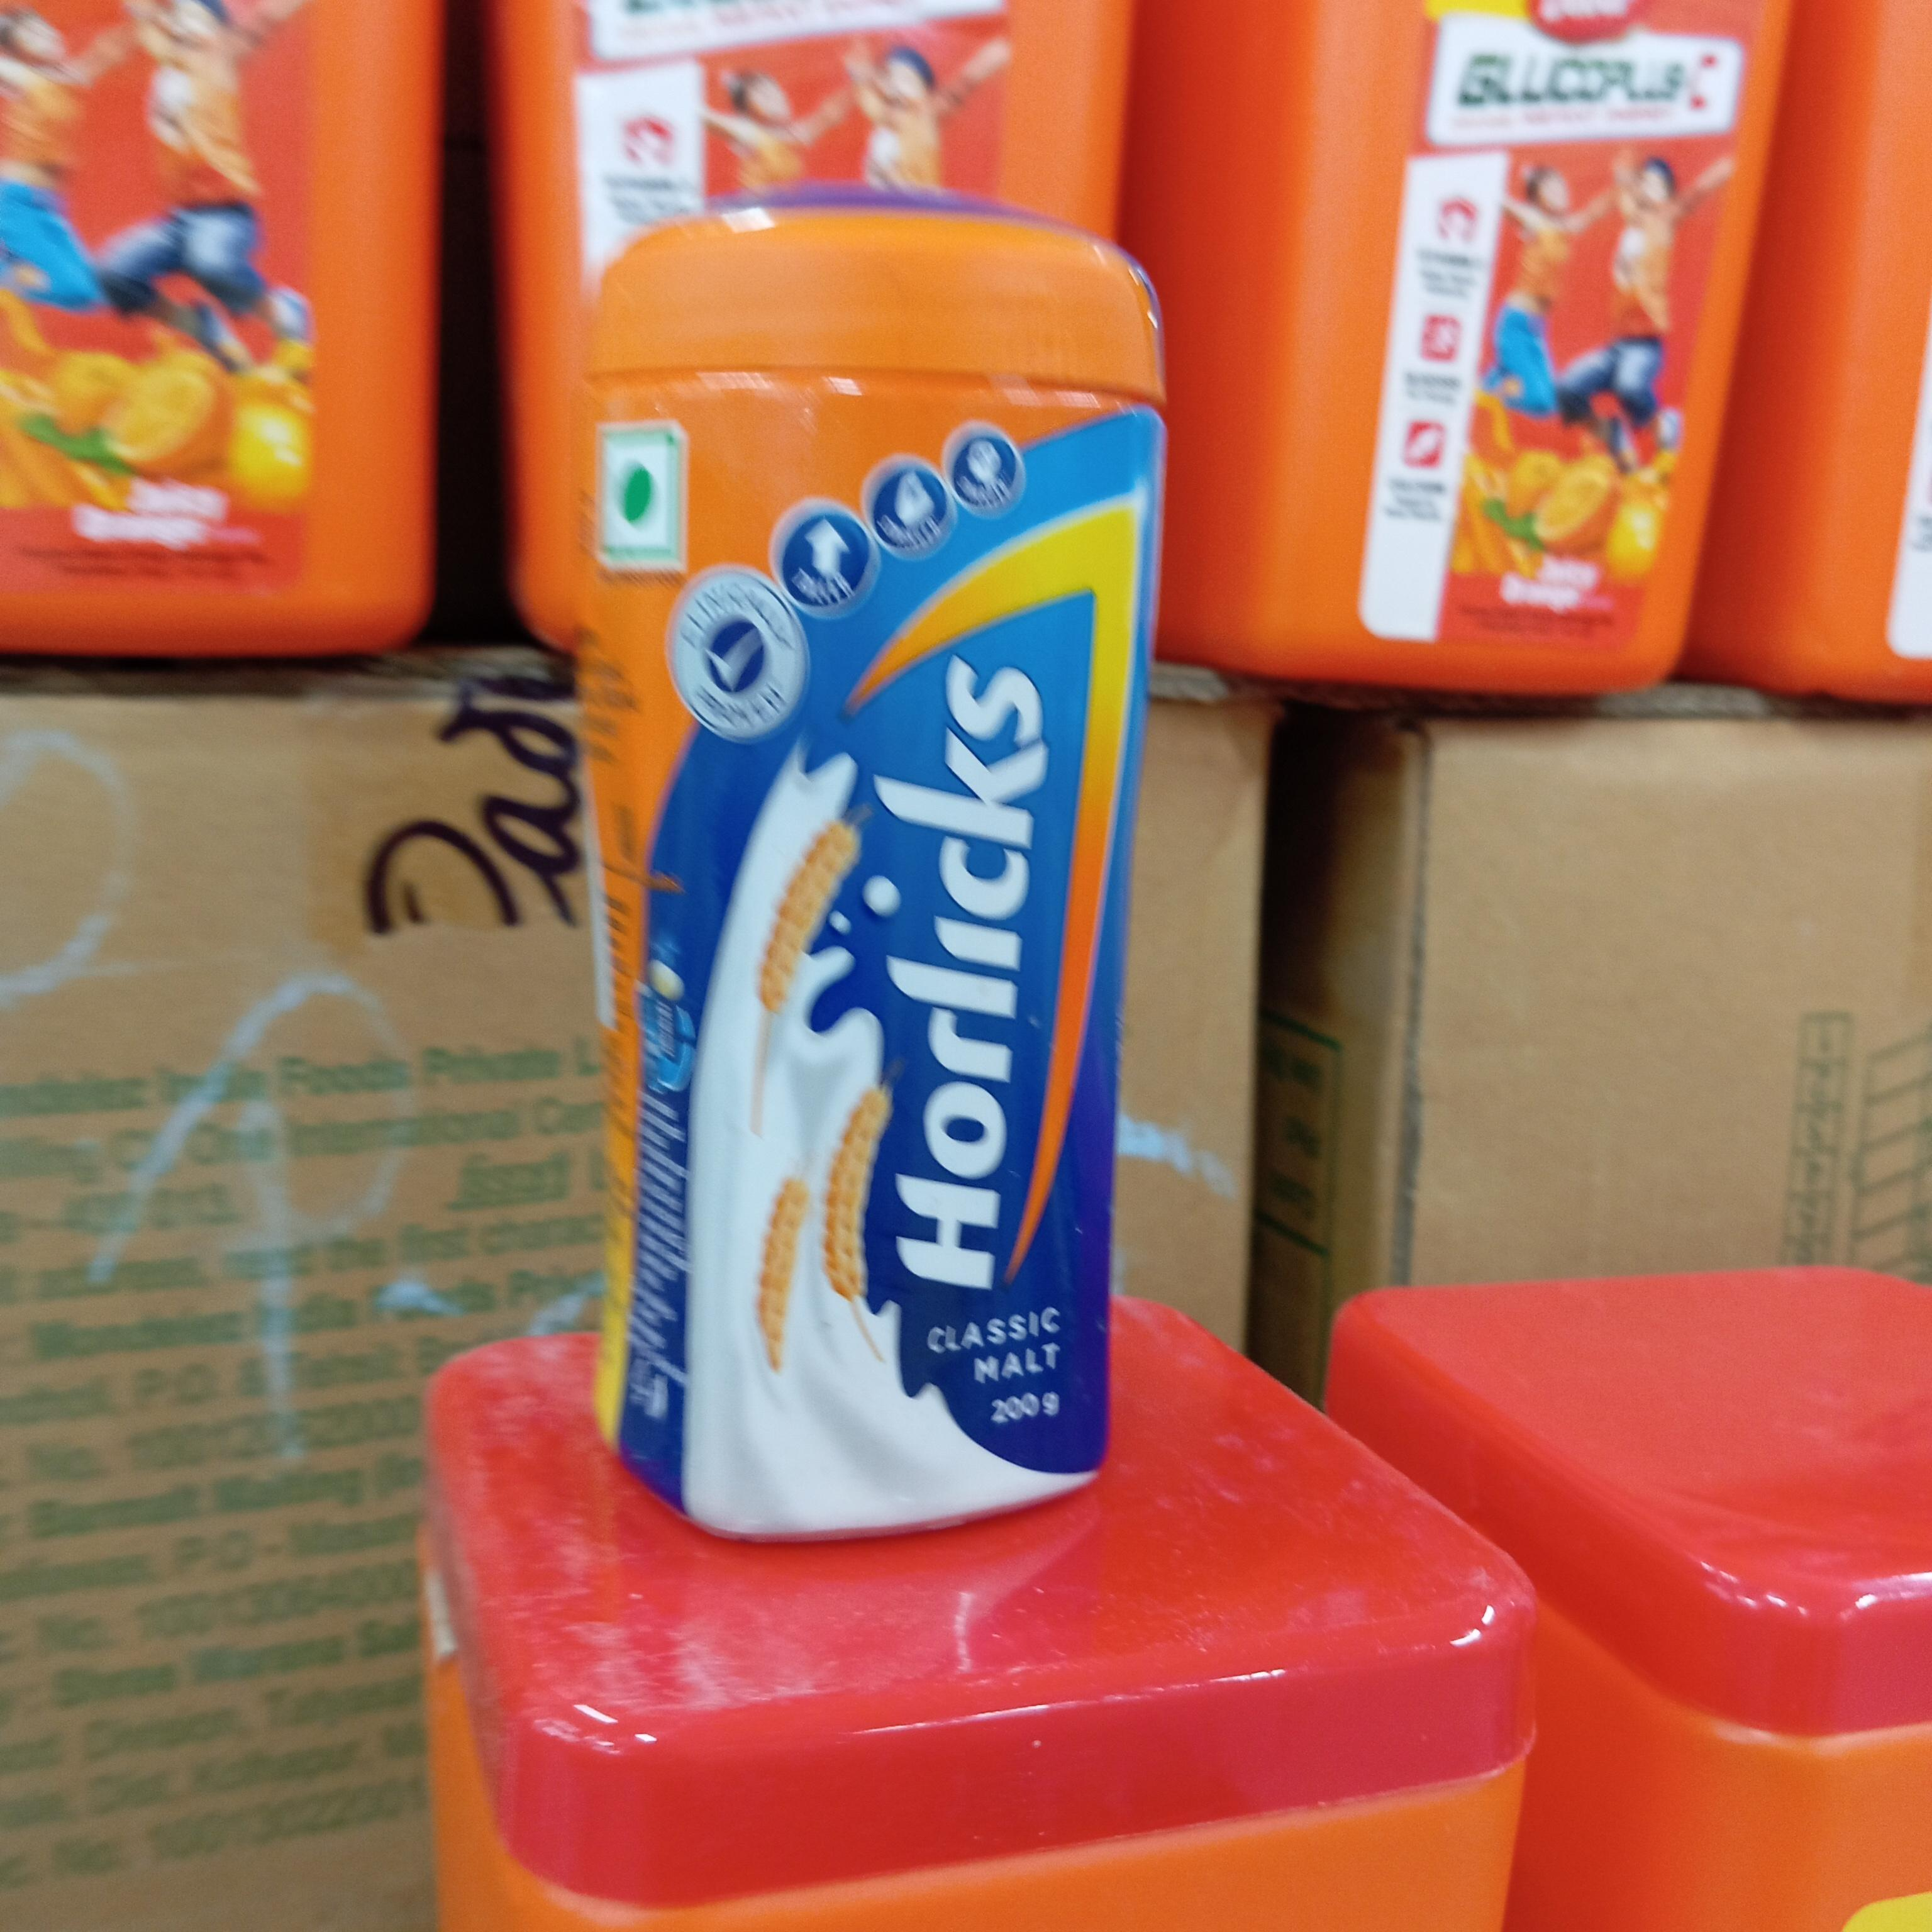HORLICK_CLASSIC_MALT_200_G_JAR: (607, 196, 1161, 1530)
